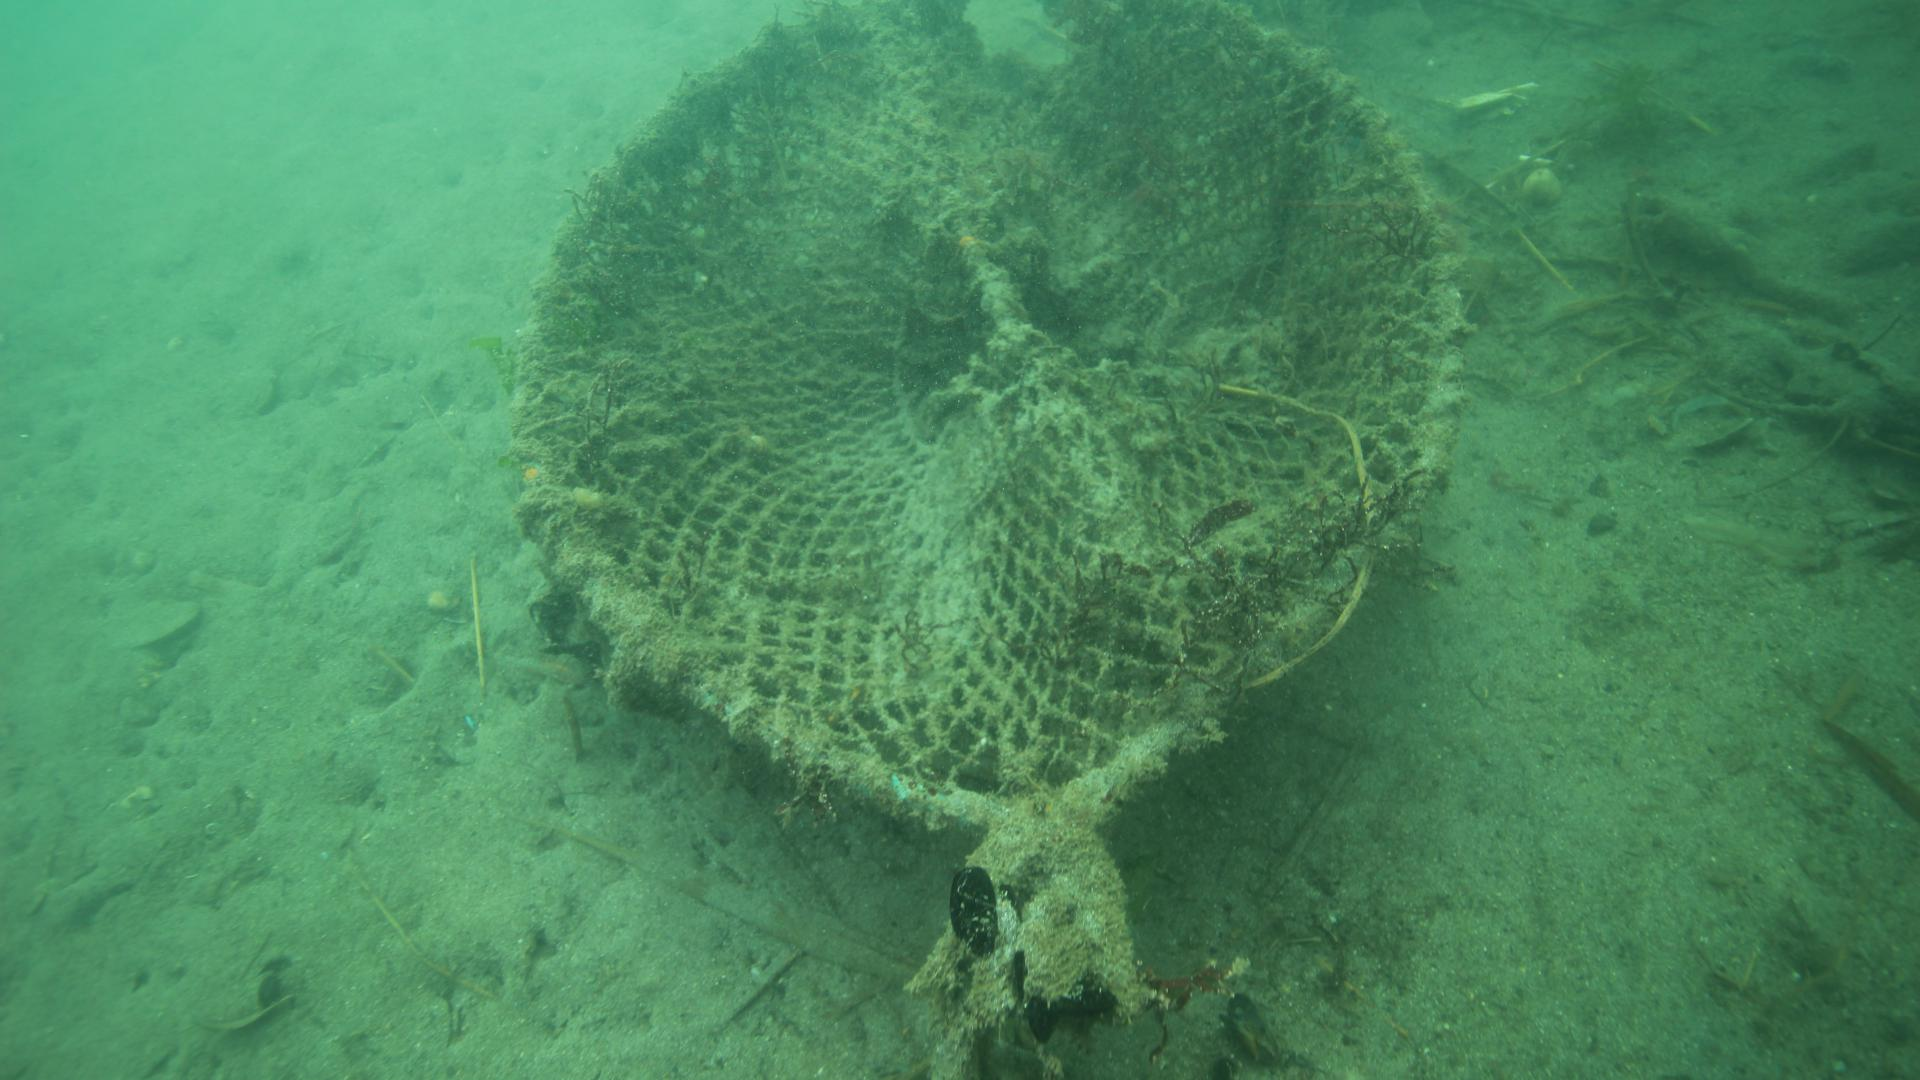circular fish trap: (512, 0, 1466, 836)
